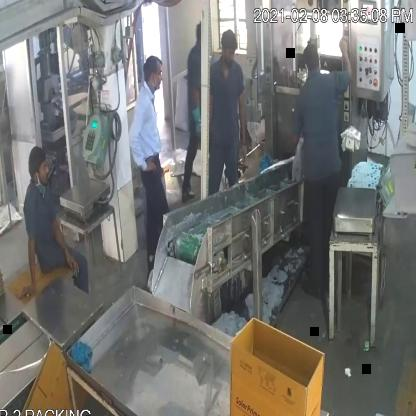glove: (188, 86, 207, 142)
no_glove: (46, 205, 84, 285), (16, 217, 42, 310), (131, 97, 157, 181), (236, 83, 251, 161), (335, 36, 354, 94)
